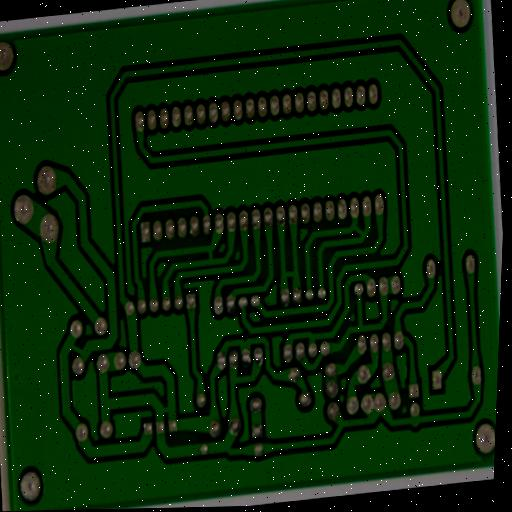short_circuit: (61, 336, 89, 365), (345, 218, 371, 246), (199, 243, 222, 268), (154, 397, 177, 422), (279, 261, 301, 285)
